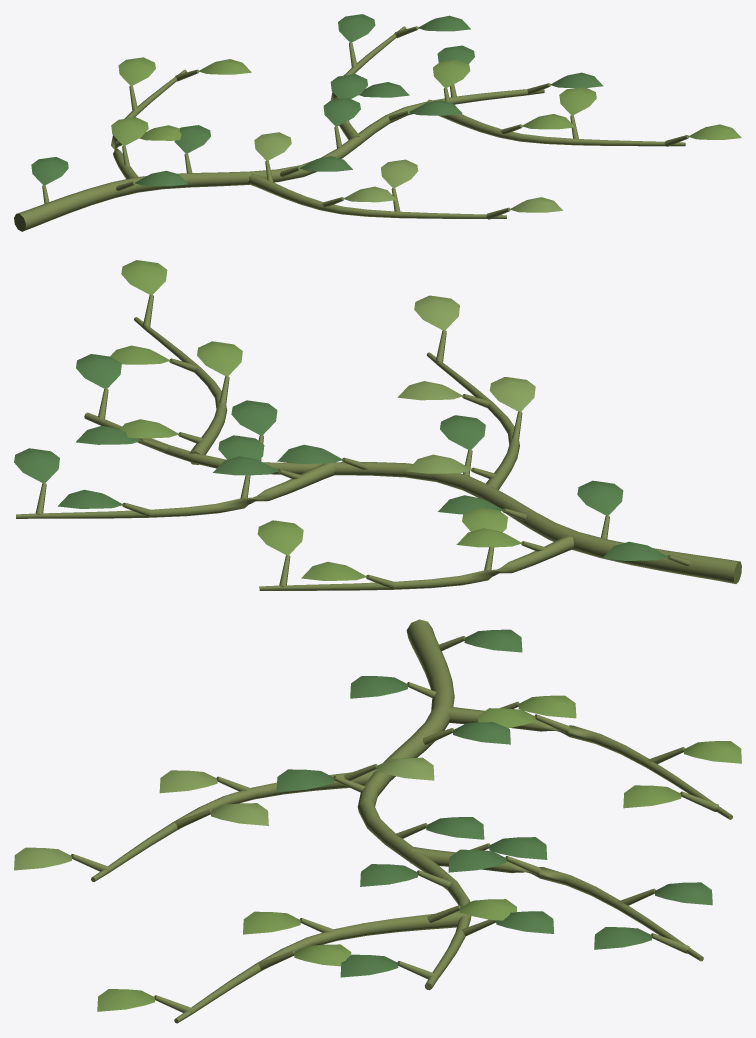
The model's file is 047_branching_ground_vine_network.glb.
3 views of the same model, one above another, from view 1: azimuth 30°, elevation 25°; view 2: azimuth 150°, elevation 25°; view 3: azimuth 270°, elevation 25° (orthographic). The views are drawn at different scales.
Visible parts, largest first — view 1: Small_network_leaves, Groundnet_stem, VIN-047_lateral_runners, VIN-047_petioles; view 2: Small_network_leaves, VIN-047_lateral_runners, Groundnet_stem, VIN-047_petioles; view 3: Small_network_leaves, VIN-047_lateral_runners, Groundnet_stem, VIN-047_petioles.
Boxes of the visible parts, box(x1,y1,x2,y2) form: Small_network_leaves: box(31, 14, 741, 212); Groundnet_stem: box(14, 89, 544, 231); VIN-047_lateral_runners: box(111, 26, 685, 218); VIN-047_petioles: box(42, 26, 688, 219); Small_network_leaves: box(14, 260, 668, 580); VIN-047_lateral_runners: box(16, 317, 573, 590); Groundnet_stem: box(84, 412, 741, 583); VIN-047_petioles: box(35, 294, 690, 587); Small_network_leaves: box(14, 629, 741, 1011); VIN-047_lateral_runners: box(91, 706, 732, 1023); Groundnet_stem: box(357, 619, 471, 990); VIN-047_petioles: box(71, 636, 718, 1015).
Size of the model in its own units: 2.19 by 0.1292 by 1.64.
